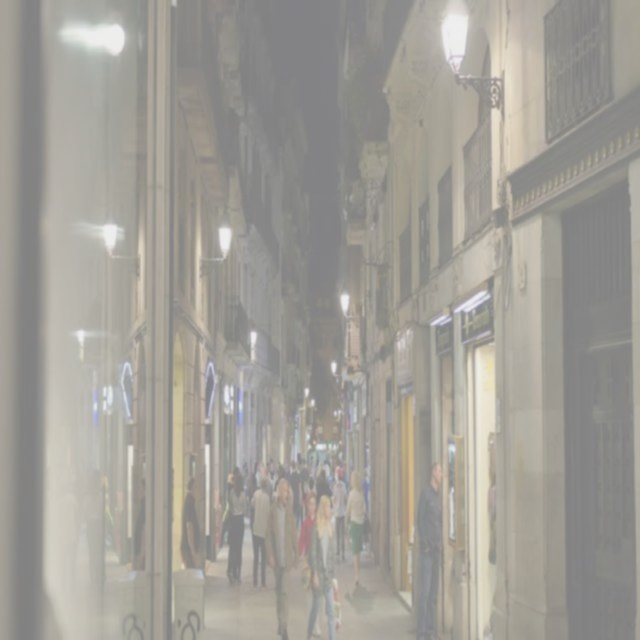pessoa: (226, 464, 364, 639), (44, 457, 148, 576), (262, 476, 300, 639), (414, 458, 445, 638), (306, 494, 338, 638), (298, 488, 322, 639), (343, 466, 372, 586), (250, 474, 270, 592), (228, 471, 247, 586), (180, 474, 202, 570), (332, 465, 350, 563), (288, 458, 303, 532), (297, 456, 311, 531), (316, 468, 334, 510), (303, 474, 317, 518), (260, 464, 274, 507), (316, 448, 342, 467), (362, 468, 372, 515), (340, 460, 350, 498), (306, 473, 318, 498), (243, 461, 250, 503), (251, 460, 260, 488), (274, 458, 288, 476), (310, 453, 317, 475), (266, 464, 274, 479), (260, 458, 273, 466), (305, 458, 311, 470), (288, 464, 294, 474), (294, 462, 298, 474)
